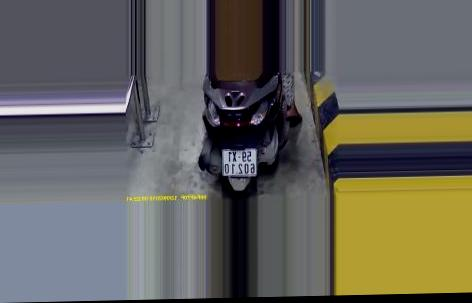License_Plate: (219, 145, 262, 180)
